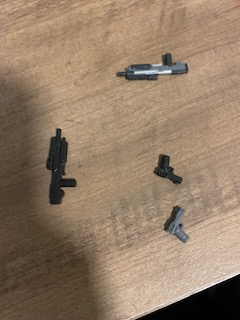pistol: (162, 204, 193, 248), (153, 153, 184, 187)
rifle: (43, 127, 79, 208), (116, 53, 190, 83)
